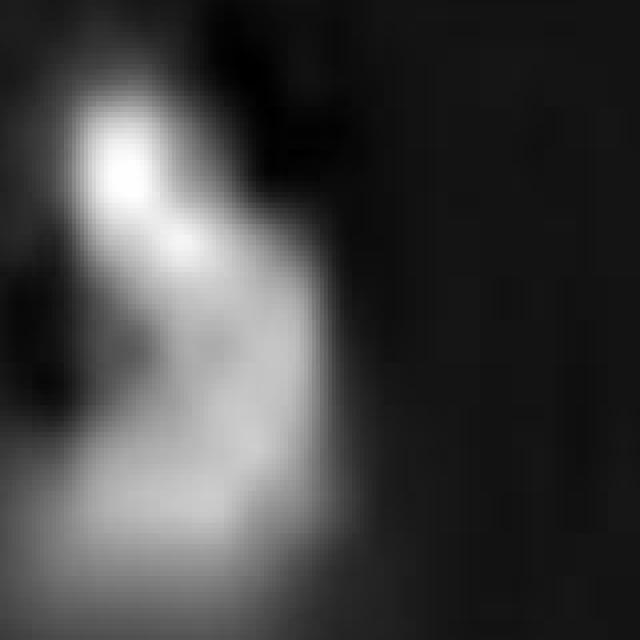person: (5, 91, 341, 640)
